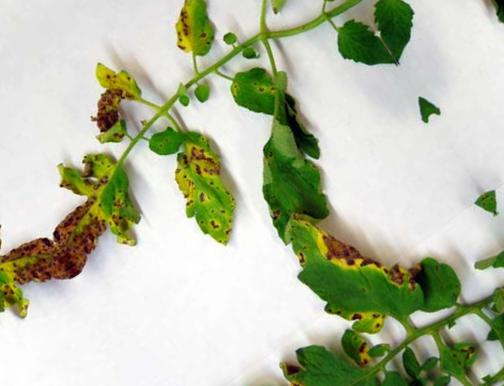Tomato Septoria leaf spot: (256, 168, 449, 367), (21, 141, 161, 287), (141, 125, 265, 264), (219, 52, 306, 138), (149, 0, 243, 68), (81, 45, 149, 118)
